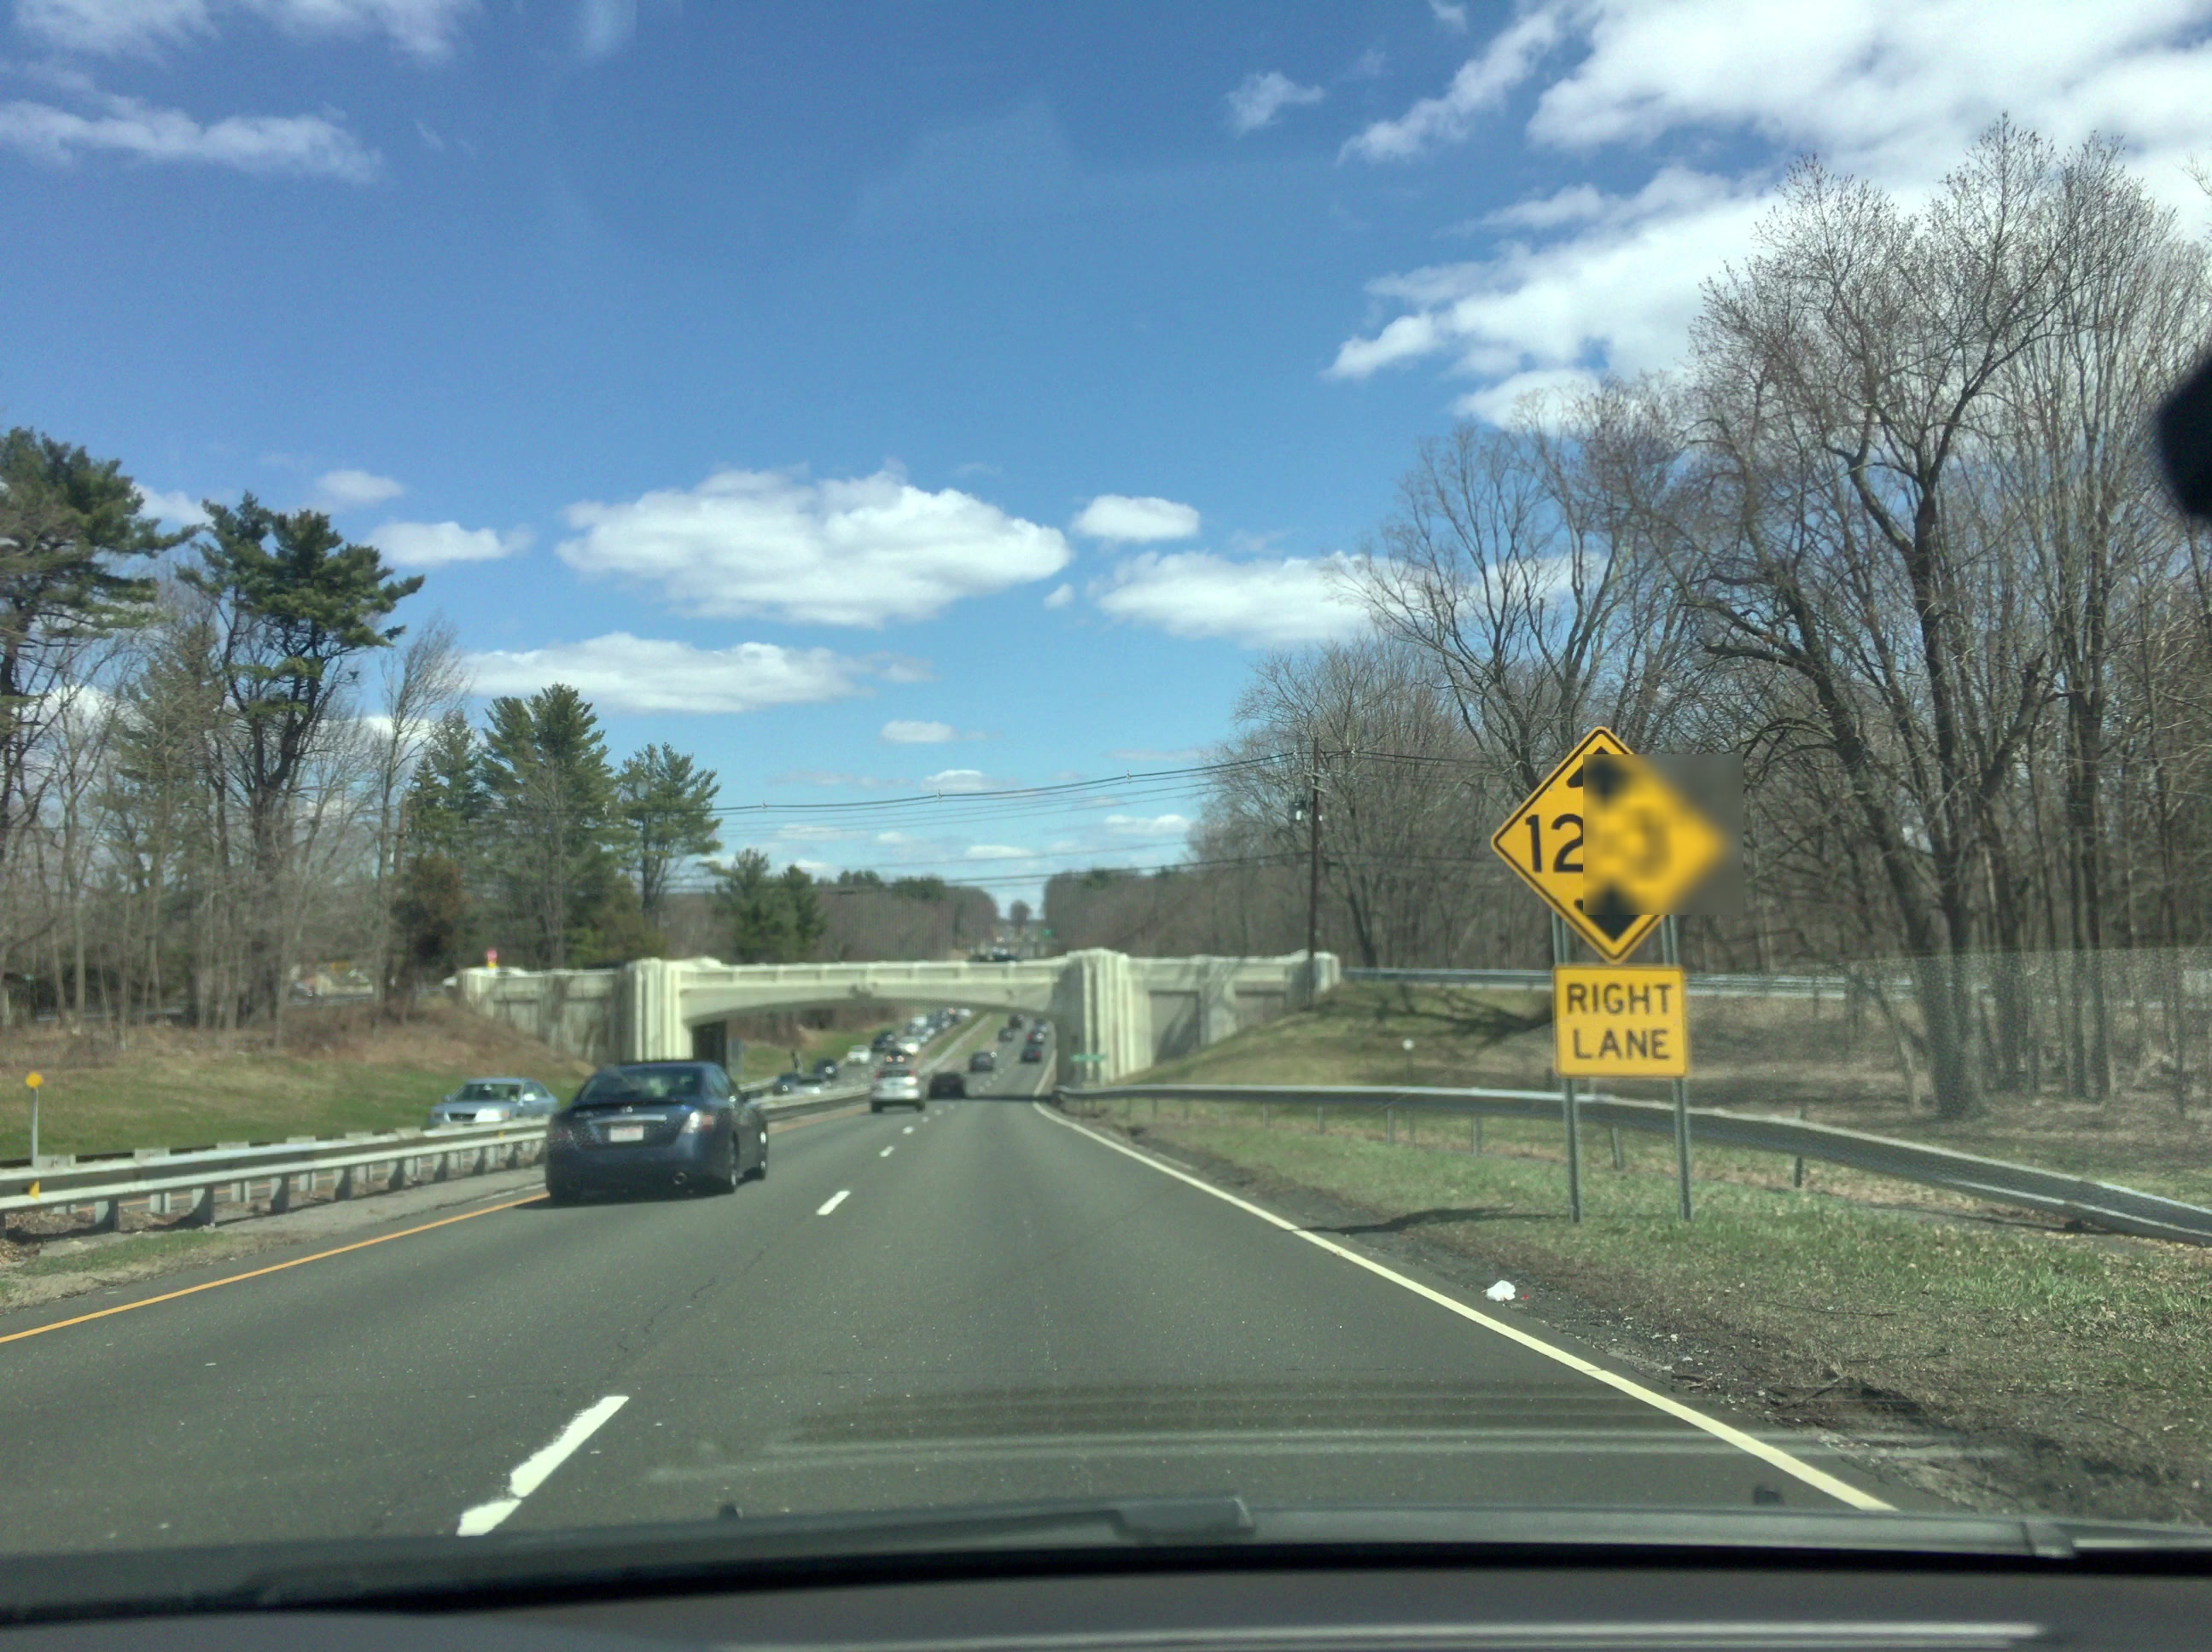low-clearance-sign: (1490, 725, 1730, 967)
